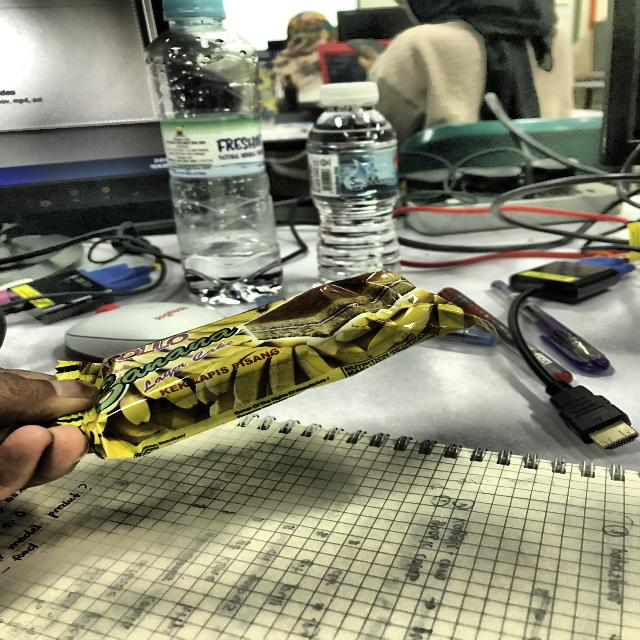Plastic: (38, 263, 484, 468)
